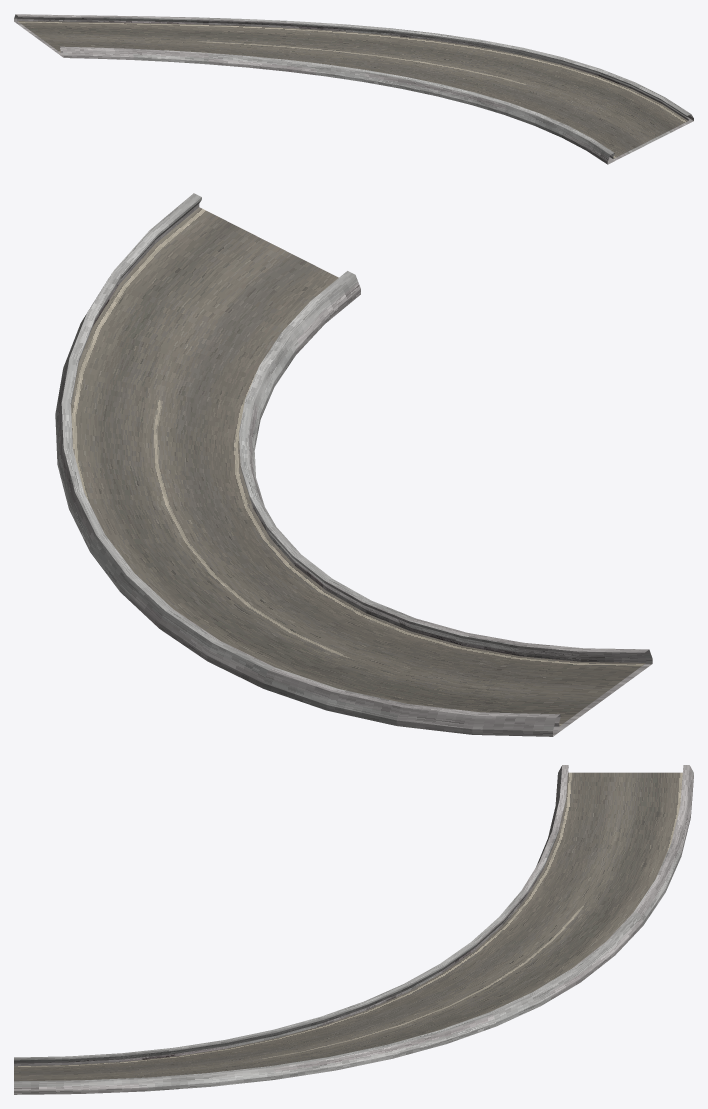
Rendered from road-Turn-HalfBankedLeft-BiSlopeUp-Up2-Left-Size5.glb.
3 renders of one model, top to bottom at view 1: azimuth 30°, elevation 25°; view 2: azimuth 150°, elevation 25°; view 3: azimuth 270°, elevation 25°, orthographic. The views are drawn at different scales.
Parts seen in each view (by area): view 1: road-Turn-HalfBankedLeft-BiSlopeUp-Up2-Left-Size5; view 2: road-Turn-HalfBankedLeft-BiSlopeUp-Up2-Left-Size5; view 3: road-Turn-HalfBankedLeft-BiSlopeUp-Up2-Left-Size5.
Boxes of the visible parts, <box> form: road-Turn-HalfBankedLeft-BiSlopeUp-Up2-Left-Size5: <box>14,14,693,164</box>; road-Turn-HalfBankedLeft-BiSlopeUp-Up2-Left-Size5: <box>55,193,652,736</box>; road-Turn-HalfBankedLeft-BiSlopeUp-Up2-Left-Size5: <box>14,765,693,1094</box>.
Size of the model in its own units: 5 by 0.595 by 5.
2 materials, 2 textured.
